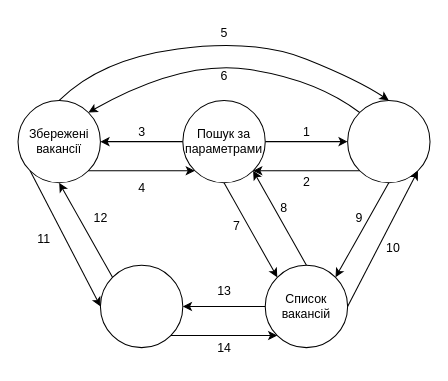
Some shapes in this 448 by 381 pixel diagram are drawn without their labels. The box of each missing label's shape, as (x1, y1, x2, y2) in pixels:
Докладний огляд вакансії: (99, 264, 183, 348)
Пошук за навичками: (347, 99, 430, 183)
